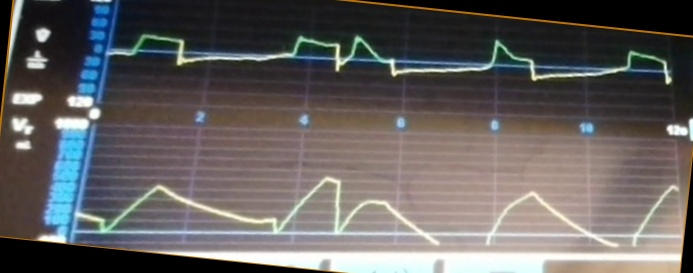Double_Triggering Flow: (111, 29, 673, 106)
Double_Triggering Volume: (79, 171, 677, 246)
